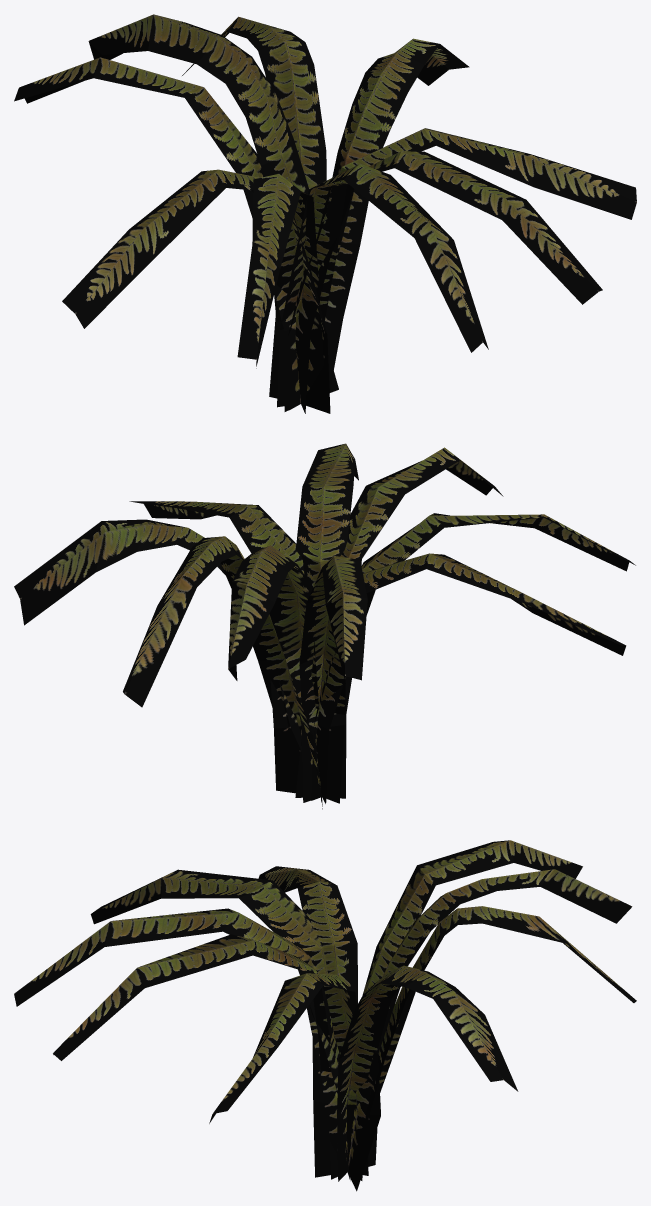
File: tree.glb
3 views of the same model, one above another, from view 1: azimuth 30°, elevation 25°; view 2: azimuth 150°, elevation 25°; view 3: azimuth 270°, elevation 25° (orthographic). The views are drawn at different scales.
Visible parts, largest first — view 1: grass; view 2: grass; view 3: grass.
Part boxes in pixels (<box>): grass: <box>14,14,636,413</box>; grass: <box>14,443,635,809</box>; grass: <box>14,840,636,1191</box>.
Bounding box in the file's own units: 2.27 × 1.25 × 2.45.
1 material, 1 textured.
